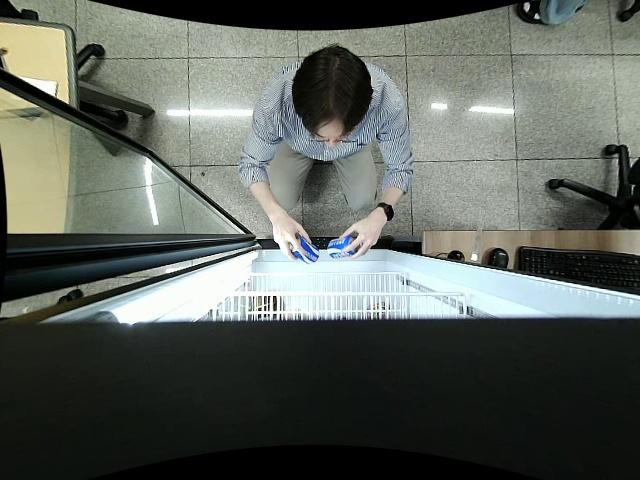00_hand: (270, 216, 314, 263), (339, 212, 380, 255)
13_pocariSweat: (286, 236, 317, 265), (327, 236, 360, 259)
